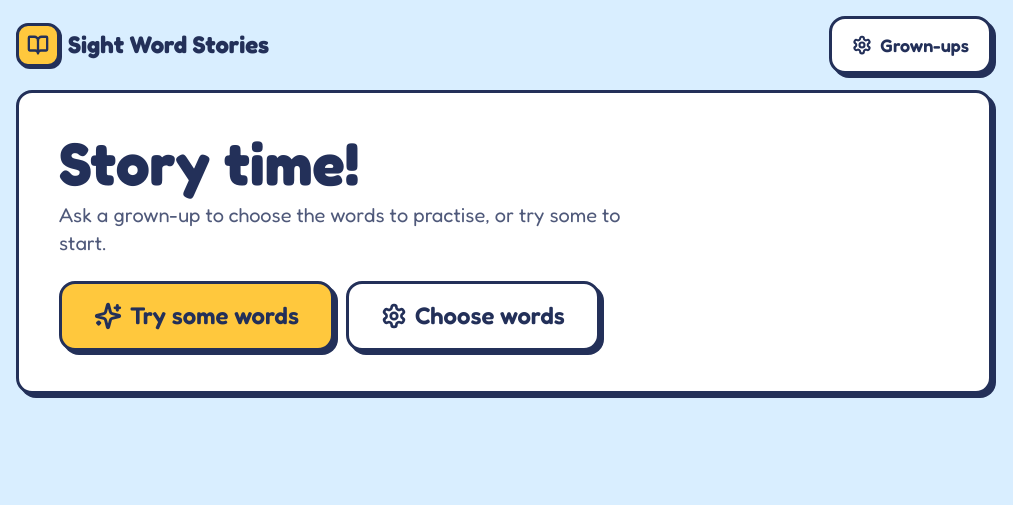
story time › starts with a way to try some words or ask a grown-up
Expected: the heading "Story time!" is shown, [59,127,359,199]
Click the button "Try some words" at x=196, y=316, box [59,281,334,351]
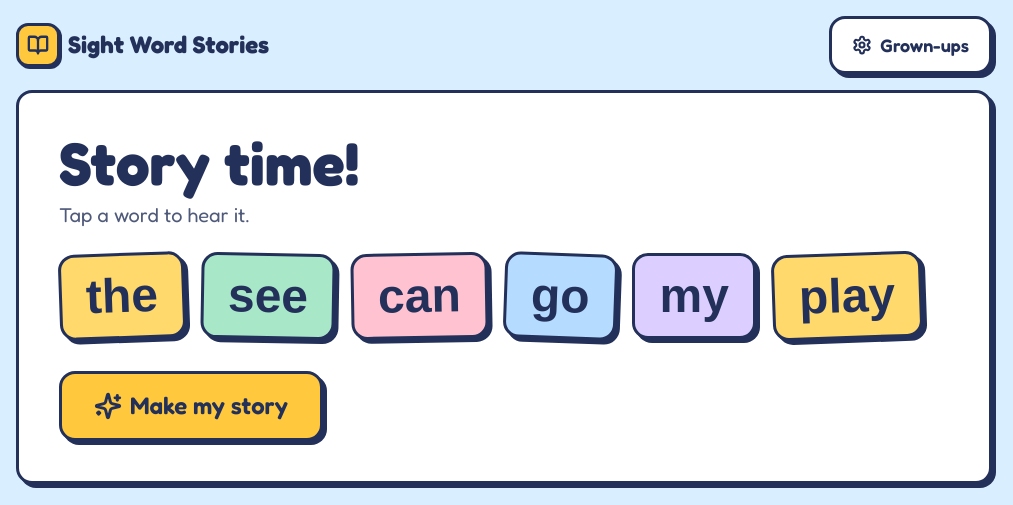
Result: the list items read "the", "see", "can", "go", "my", "play", in this order at [59,253,185,339]; [201,253,335,339]; [351,253,488,339]; [504,253,616,339]; [632,253,756,339]; [772,253,922,339]
